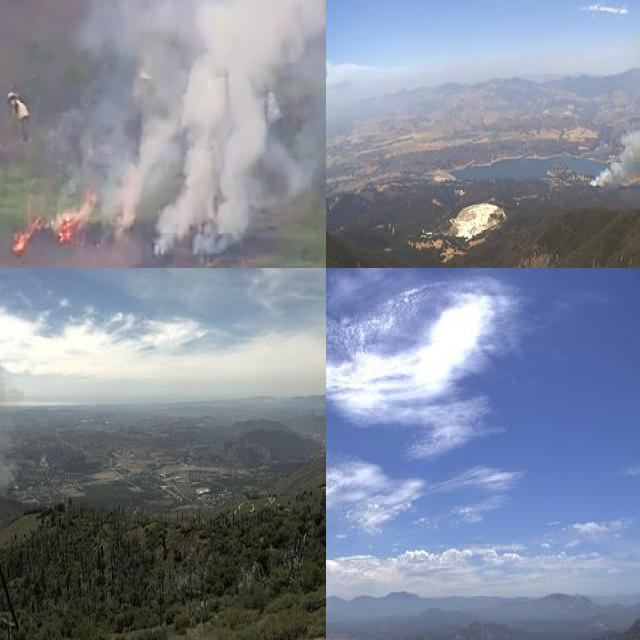fire: (54, 193, 94, 244), (11, 212, 42, 253)
smoke: (51, 0, 326, 258), (586, 39, 640, 191), (0, 351, 16, 515)
